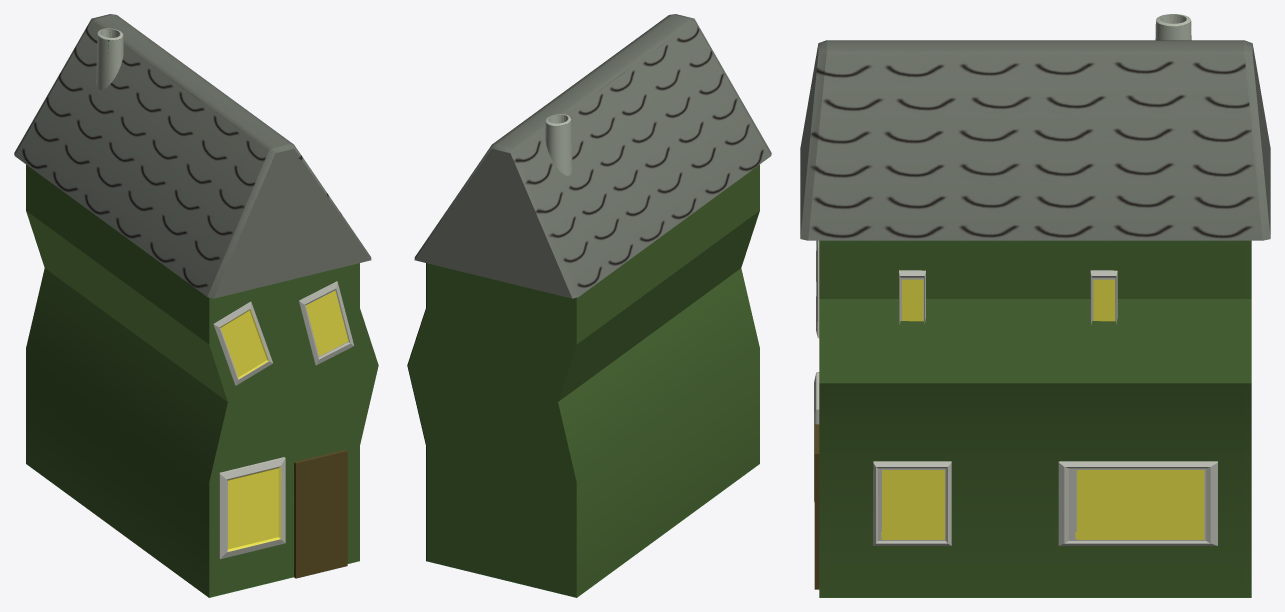
The model's file is House6_export.FBX.
3 renders of one model, left to right at view 1: azimuth 30°, elevation 25°; view 2: azimuth 150°, elevation 25°; view 3: azimuth 270°, elevation 25°, orthographic. The views are drawn at different scales.
Visible parts, largest first — view 1: house004; view 2: house004; view 3: house004.
Boxes of the visible parts, box(x1,y1,x2,y2) form: house004: box(14, 14, 378, 597); house004: box(407, 14, 771, 597); house004: box(800, 14, 1270, 597).
Size of the model in its own units: 49.91 by 120 by 97.8.
